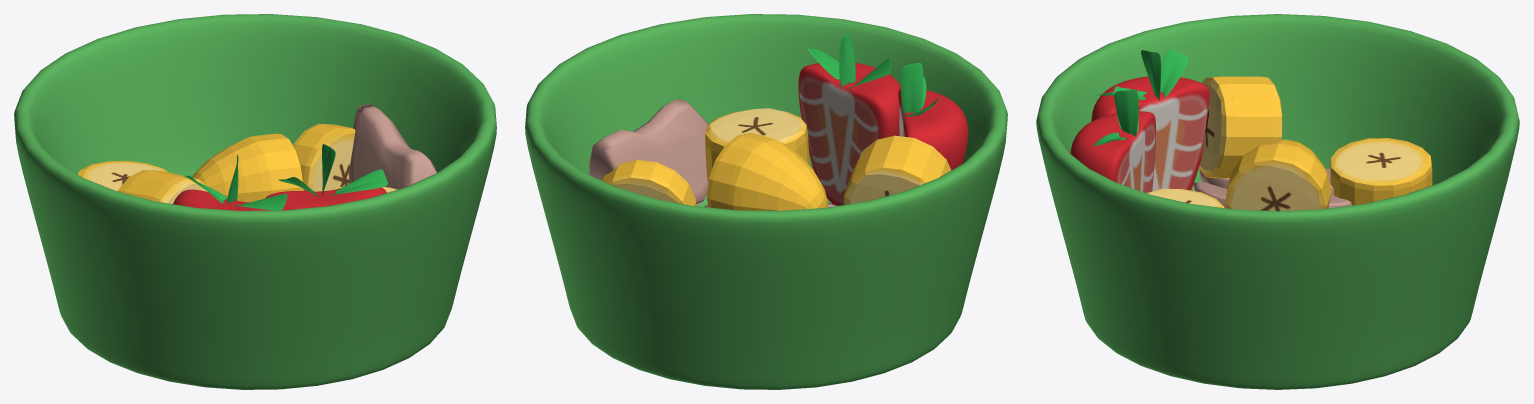
The model's file is BolCompleto.fbx.
The picture shows the model from 3 angles, left to right: view 1: azimuth 30°, elevation 25°; view 2: azimuth 150°, elevation 25°; view 3: azimuth 270°, elevation 25°; orthographic projection.
Visible parts, largest first — view 1: Plátanos cortados.002; view 2: Plátanos cortados.002; view 3: Plátanos cortados.002.
Boxes of the visible parts, box(x1,y1,x2,y2) form: Plátanos cortados.002: box(14, 14, 496, 389); Plátanos cortados.002: box(525, 14, 1007, 389); Plátanos cortados.002: box(1036, 14, 1519, 389).
Bounding box in the file's own units: 4.12 × 2.06 × 4.12.
